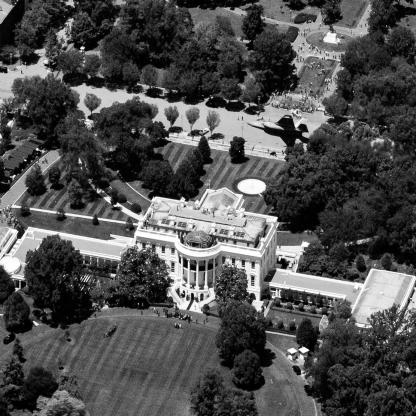F35: (247, 116, 312, 149)
